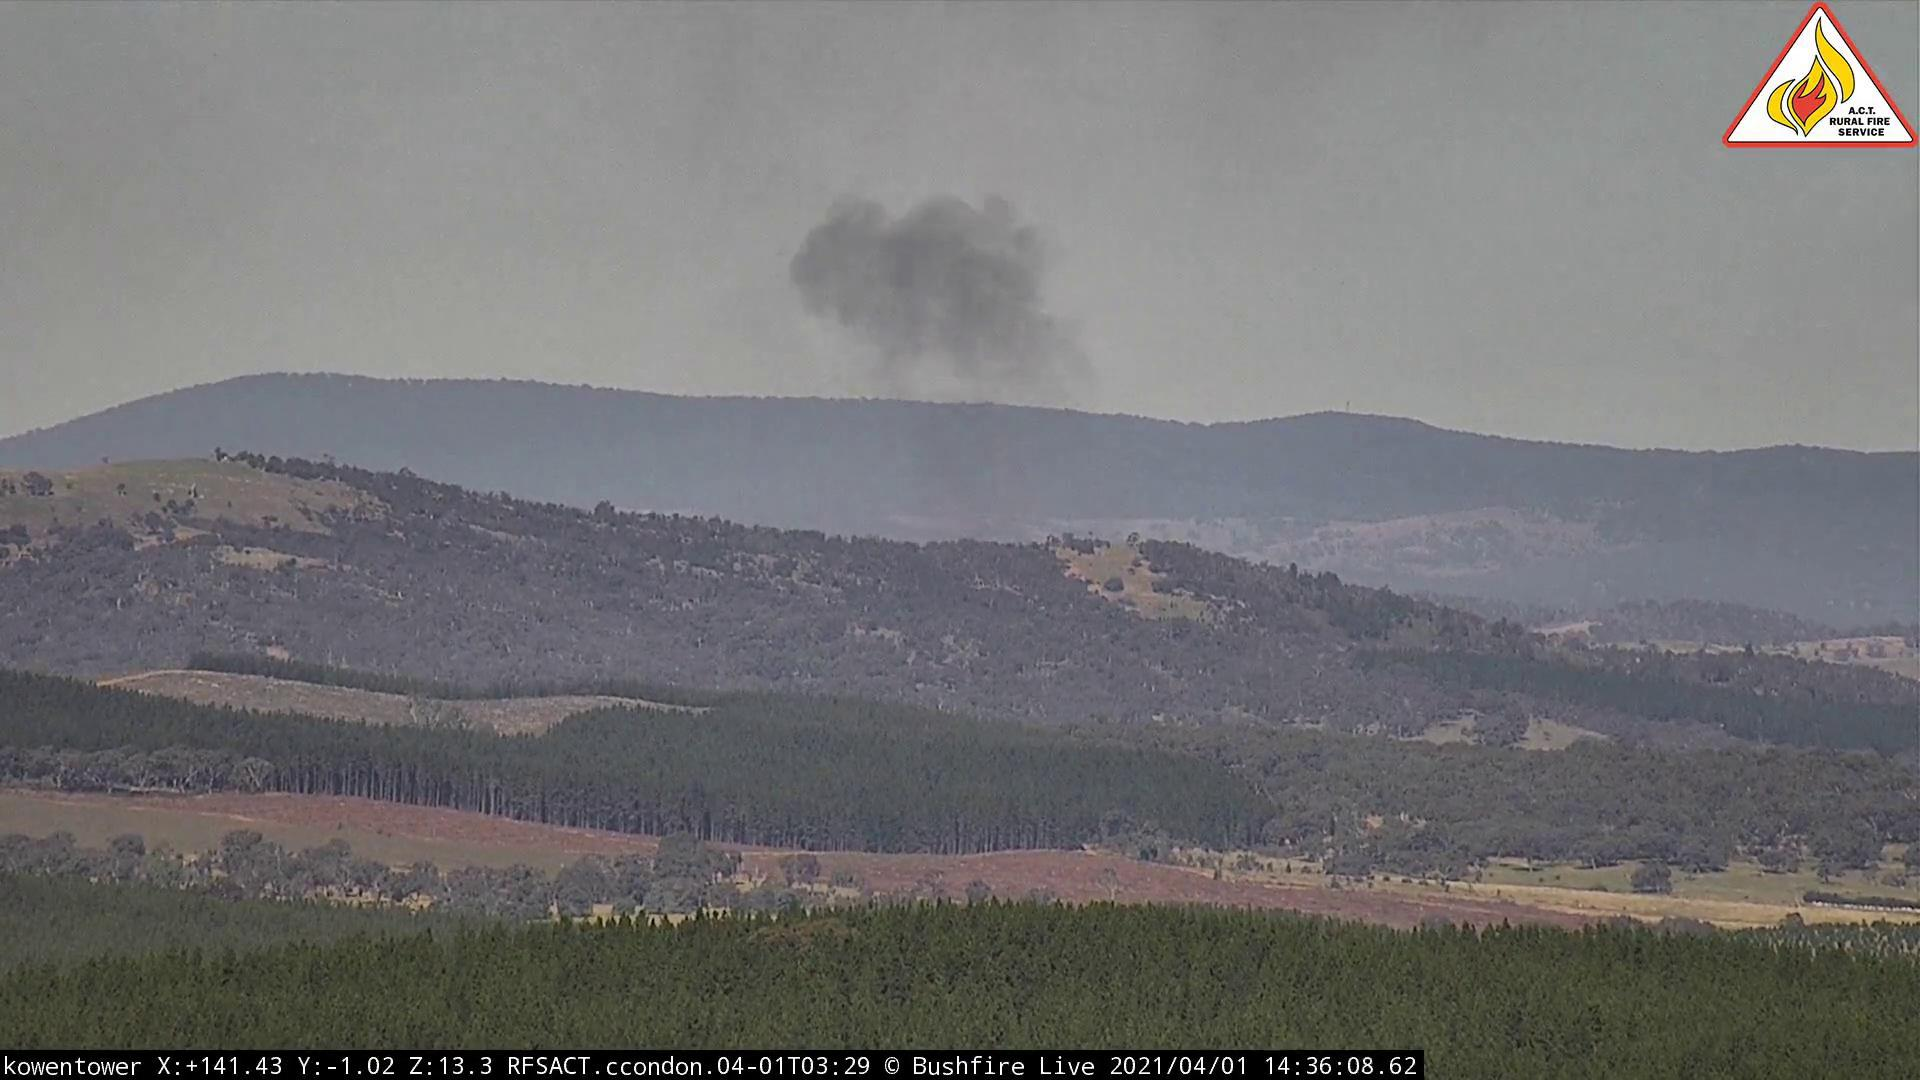instance_salient_object: (774, 185, 1109, 542)
